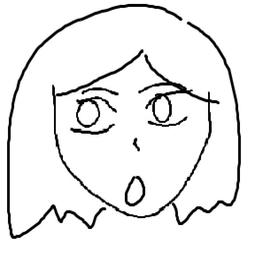eye: (142, 89, 195, 131), (69, 95, 115, 139)
eyebrow: (130, 76, 174, 93), (81, 85, 120, 96)
open_mouth: (121, 171, 147, 209)
pointy_nose: (129, 136, 143, 154)
